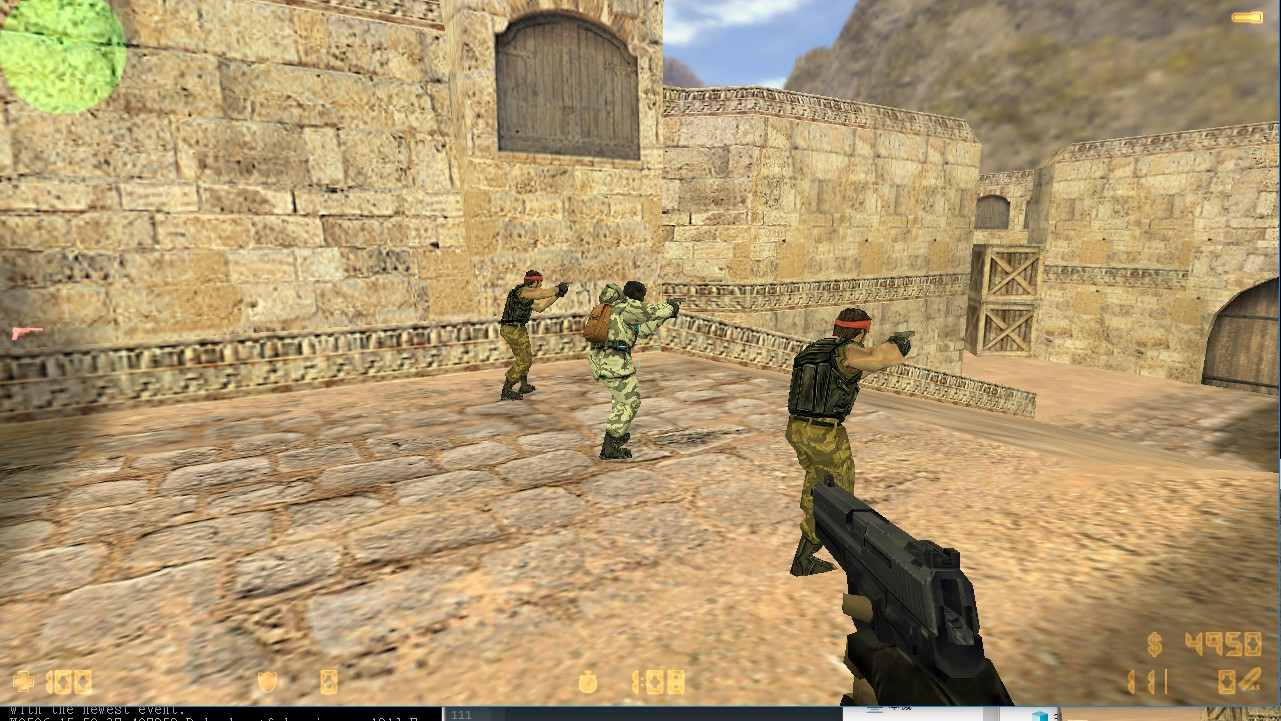person: (788, 299, 859, 572), (592, 268, 649, 470), (488, 259, 555, 411)
